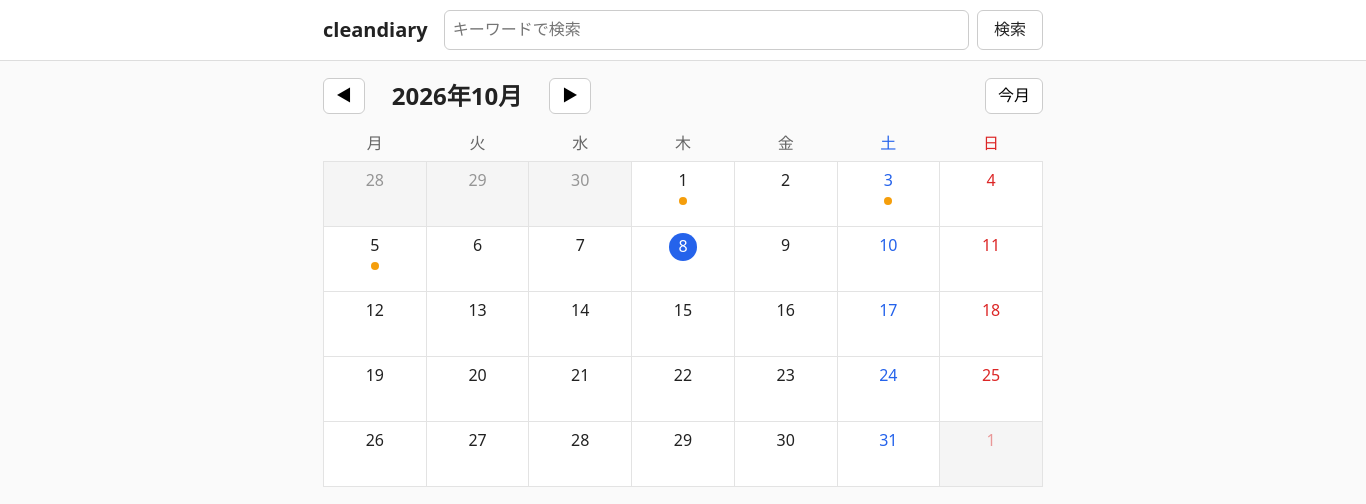
Scenario: キーワード検索 › キーワードが空なら、入力するよう案内する
Click the button "検索": [1010, 30] box [977,10,1043,50]
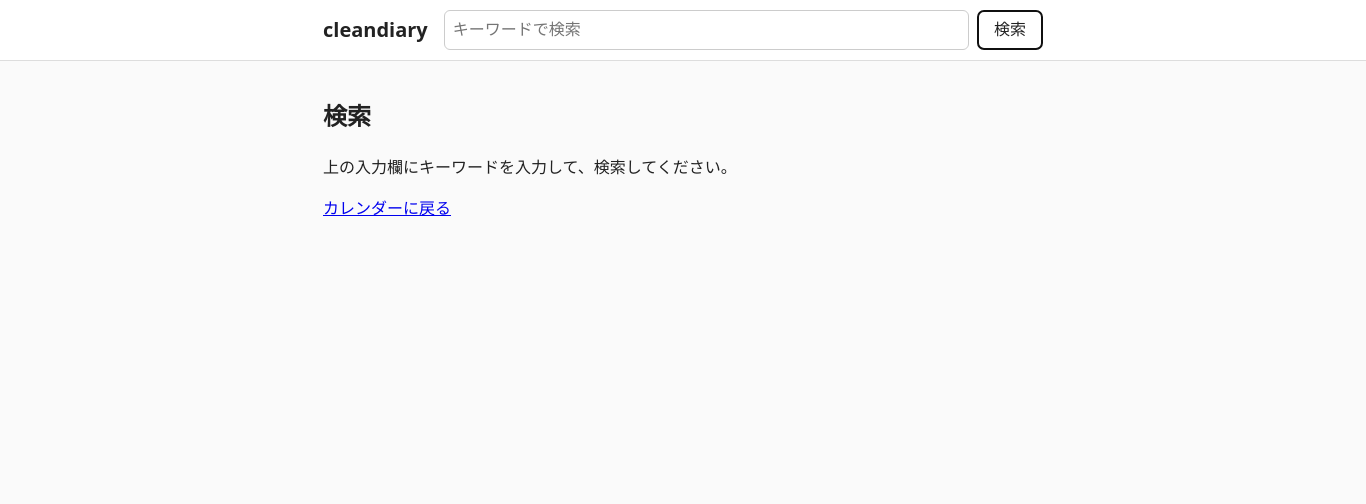
Check: the heading "検索" is shown, box [323,98,371,132]
Check: the text "上の入力欄にキーワードを入力して、検索してください。" is shown, box [323,156,737,178]
